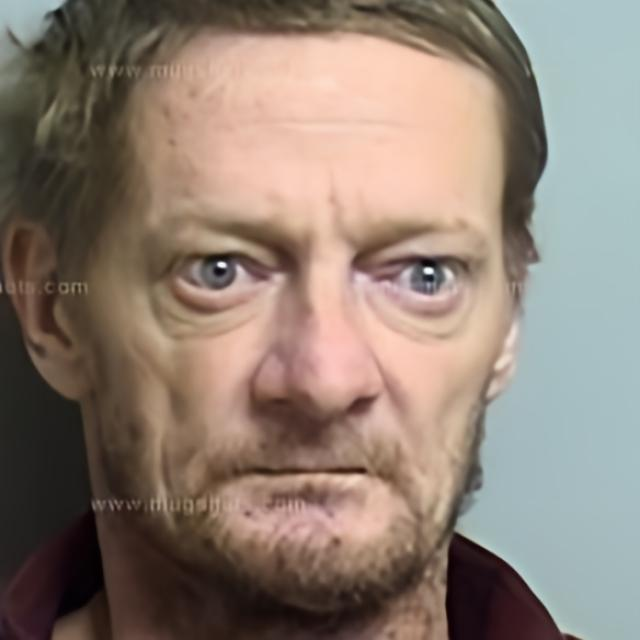sad: (88, 27, 508, 620)
